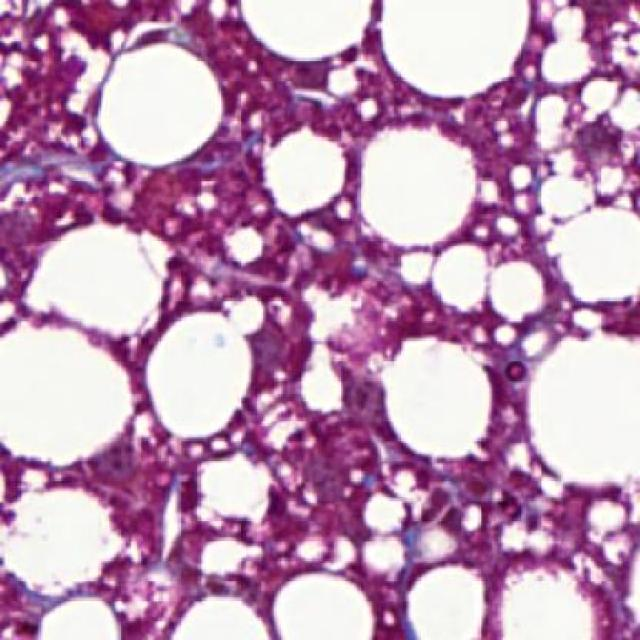steatosis: (94, 43, 222, 166), (383, 330, 498, 464), (355, 128, 474, 252), (147, 312, 256, 440), (263, 132, 349, 216)
